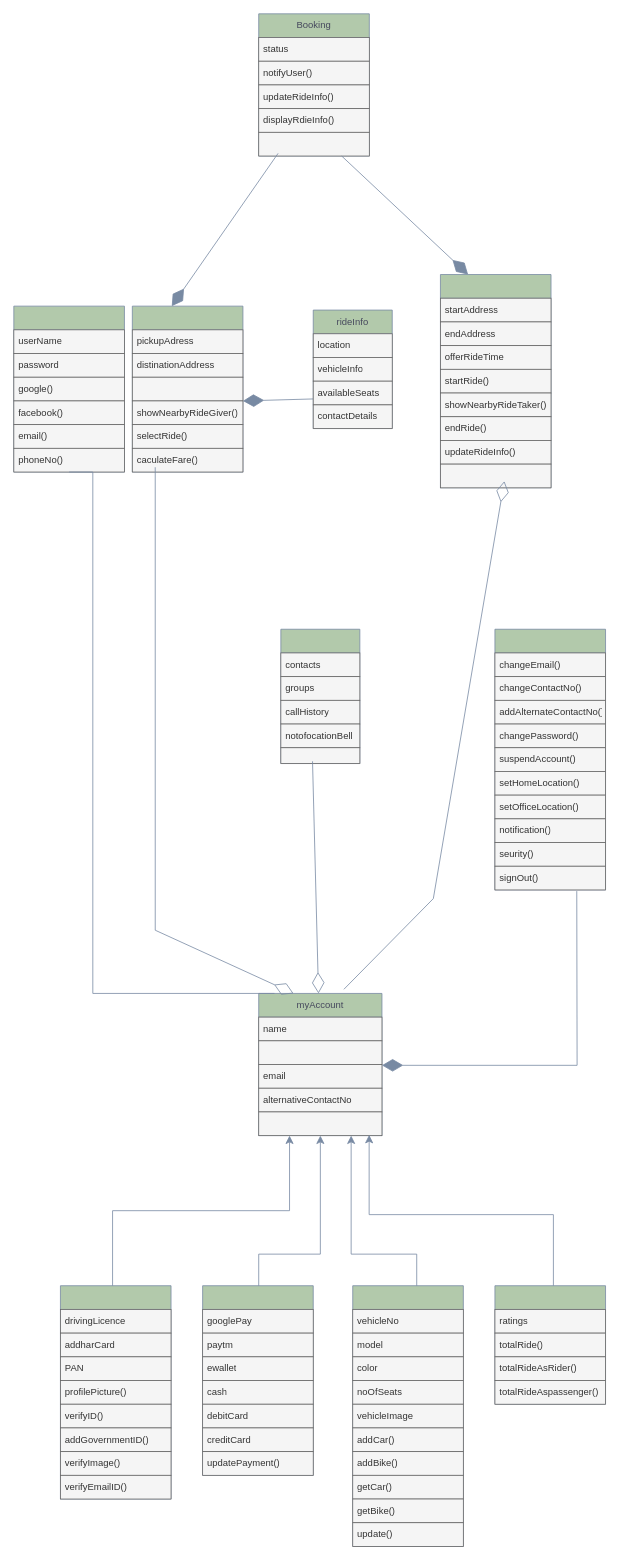
Image size: 619x1560. Some labels were removed from this diagram. The box of each missing label's shape, as (x1, y1, x2, y2) in pixels:
authentication: (13, 305, 124, 472)
cancelBooking(): (258, 132, 369, 156)
chats(): (280, 747, 360, 764)
contactNo: (258, 1040, 382, 1065)
deleteUserBooking(): (440, 463, 551, 488)
displayVerificationStatus(): (258, 1111, 382, 1136)
myPayments: (202, 1285, 313, 1475)
myProfile: (60, 1285, 171, 1499)
myRides: (494, 1285, 606, 1404)
myVehicles: (352, 1285, 463, 1546)
notification: (280, 628, 360, 764)
pickupTime: (132, 376, 243, 401)
rideGiver: (440, 274, 551, 488)
rideTaker: (132, 305, 243, 472)
settings: (494, 628, 606, 890)
